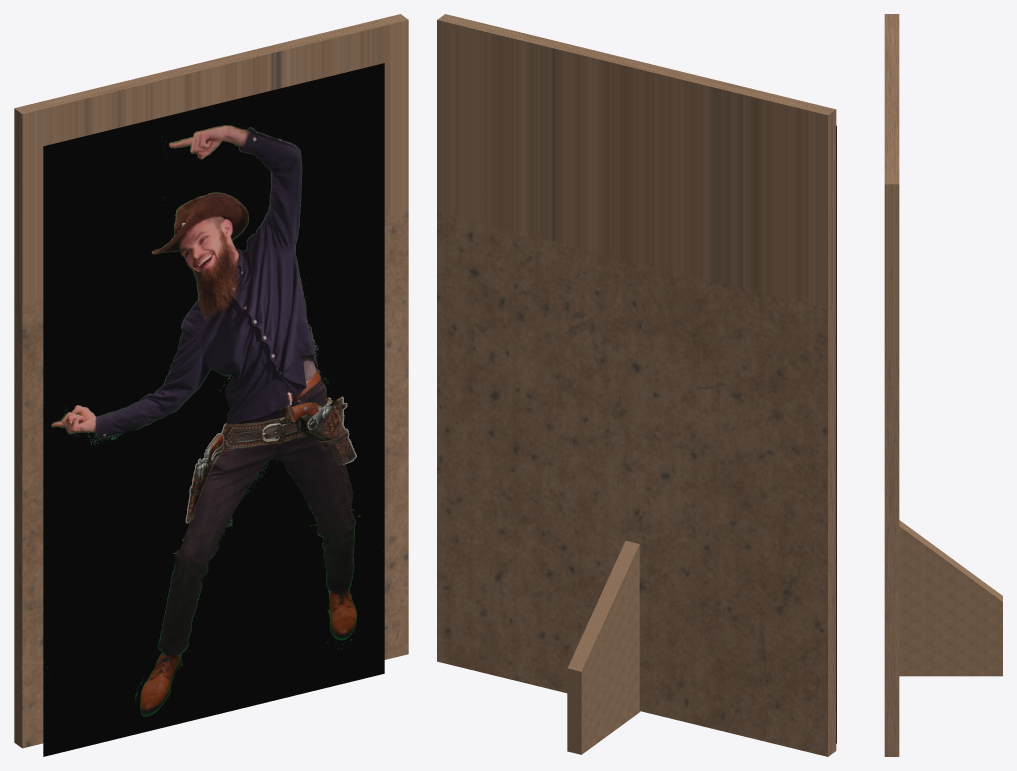
The picture shows the model from 3 angles, left to right: view 1: azimuth 30°, elevation 25°; view 2: azimuth 150°, elevation 25°; view 3: azimuth 270°, elevation 25°; orthographic projection. The views are drawn at different scales.
Parts seen in each view (by area): view 1: 5-point, Cube; view 2: Cube, Cube.001; view 3: Cube.001, Cube.
Part boxes in pixels (x1,y1,x2,y2): 5-point: (43,63,384,756); Cube: (14,14,408,748); Cube: (437,14,836,756); Cube.001: (567,540,640,754); Cube.001: (899,520,1002,676); Cube: (884,14,899,756).
Bounding box in the file's own units: 837 × 1319 × 286.
